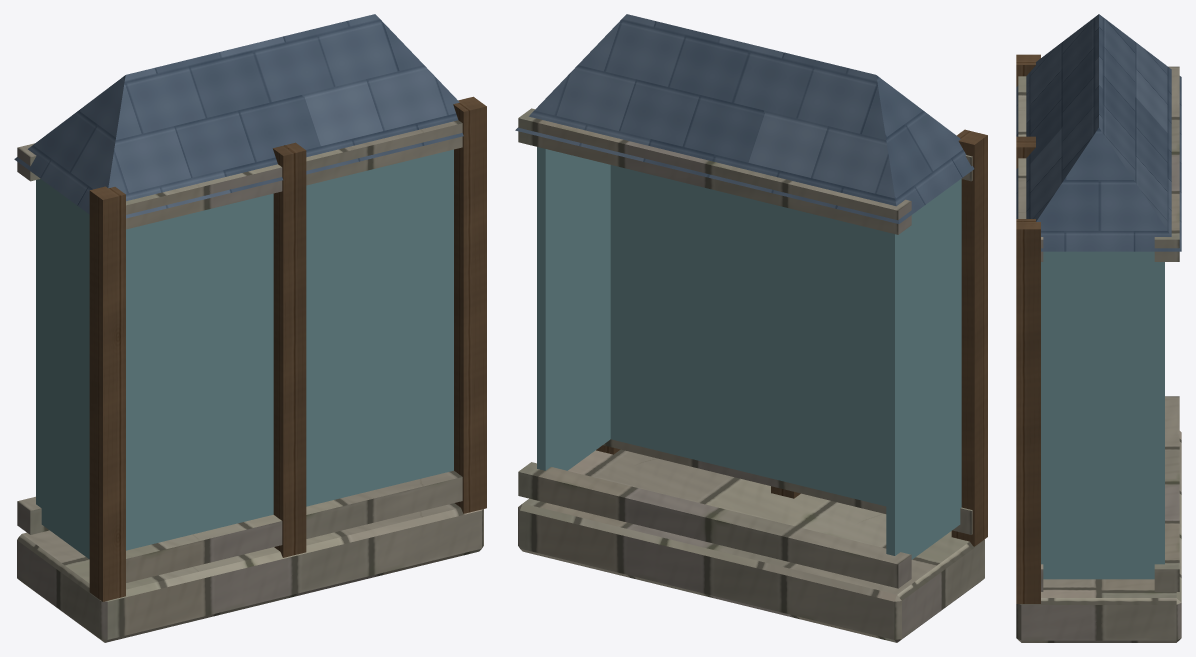
Rendered from Furn_Window_Bay.fbx.
The picture shows the model from 3 angles, left to right: view 1: azimuth 30°, elevation 25°; view 2: azimuth 150°, elevation 25°; view 3: azimuth 270°, elevation 25°; orthographic projection. The views are drawn at different scales.
Visible parts, largest first — view 1: Furn_Window_Bay_Mesh; view 2: Furn_Window_Bay_Mesh; view 3: Furn_Window_Bay_Mesh.
Boxes of the visible parts, x1,y1,x2,y2 form: Furn_Window_Bay_Mesh: (14,14,486,642); Furn_Window_Bay_Mesh: (515,14,987,642); Furn_Window_Bay_Mesh: (1016,14,1181,642).
Size of the model in its own units: 2 by 2.6 by 0.8.
